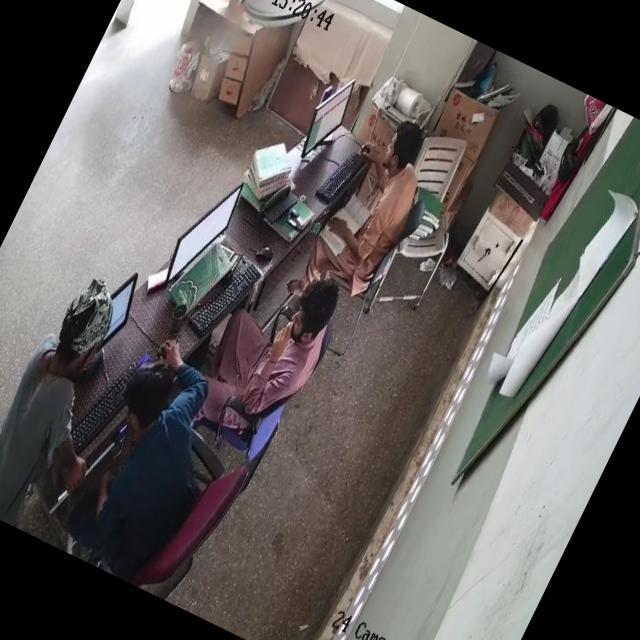person: (68, 338, 246, 558), (0, 265, 122, 524), (208, 253, 348, 425), (319, 114, 435, 280)
